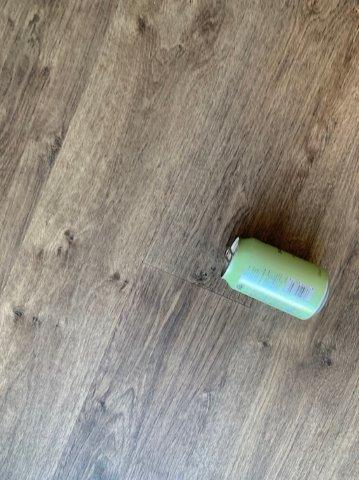kaleng: (221, 238, 328, 320)
